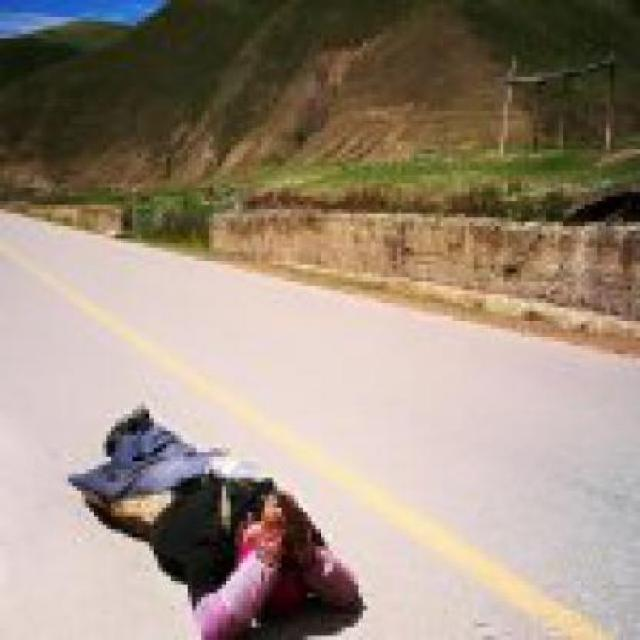fall: (55, 379, 371, 632)
